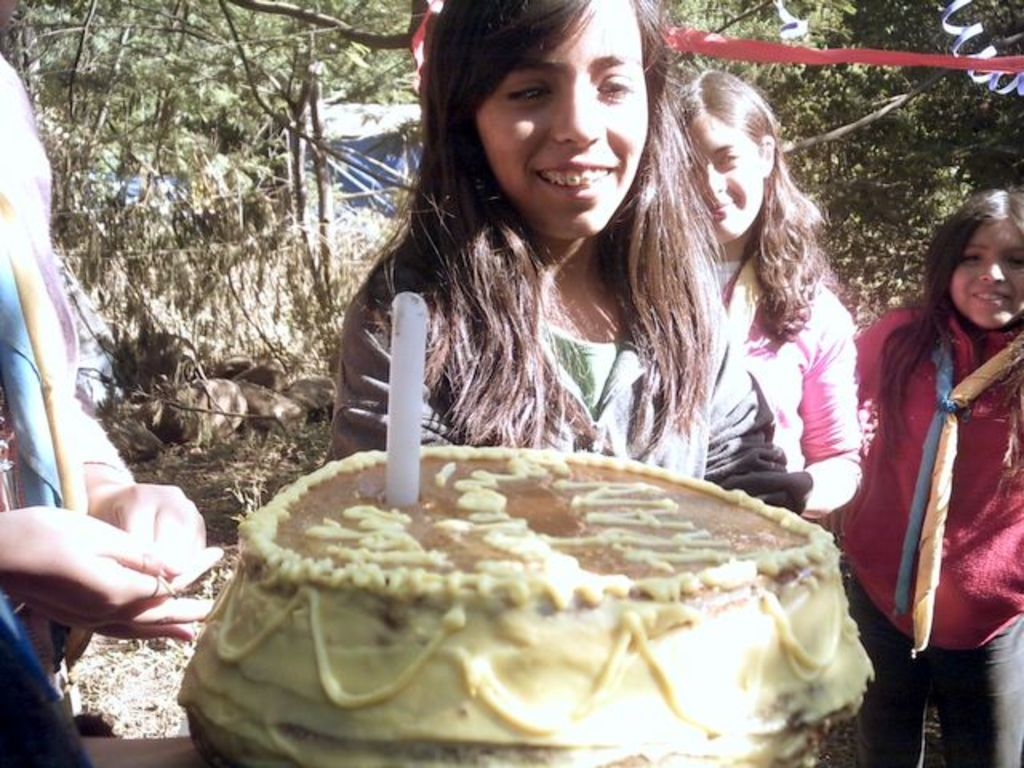cake: (178, 440, 880, 766)
